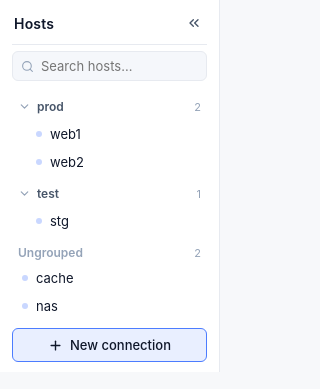
it: Drawer — selection follows what is visible › collapsing a group drops its members from an existing selection
Type keys "{Control>}"
Click the button "web1" at (102, 134), box [28,120,175,148]
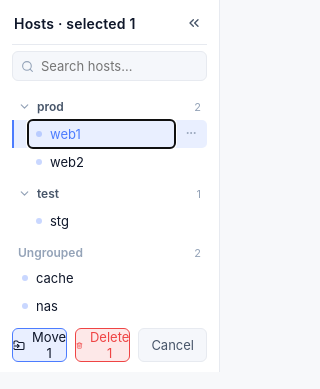
Click the button "cache" at (94, 278), box [14,264,175,292]
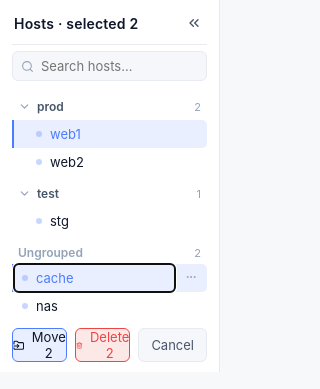
Type keys "{/Control}"
Now the button "Delete 2" is shown, box [75,328,130,362]
Click the button "prod 2" at (110, 106), box [12,93,207,120]
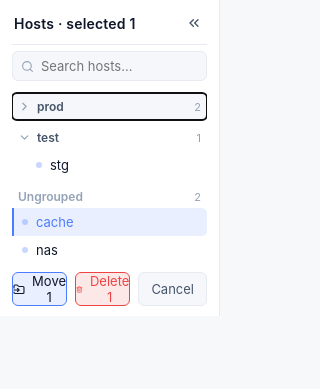
Now the button "Delete 1" is shown, box [75,272,130,306]
